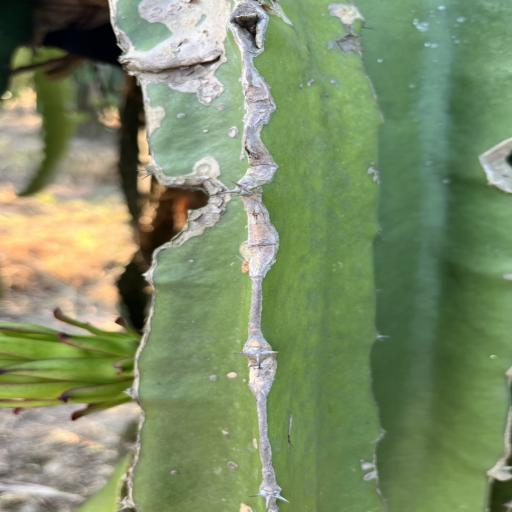stemcanker: (294, 77, 346, 98), (211, 420, 242, 444), (207, 372, 254, 387), (172, 106, 194, 131), (357, 458, 378, 484), (163, 466, 195, 483), (220, 455, 238, 477), (227, 127, 241, 144), (184, 257, 200, 269), (200, 127, 214, 140), (234, 154, 248, 165), (214, 104, 228, 114)
